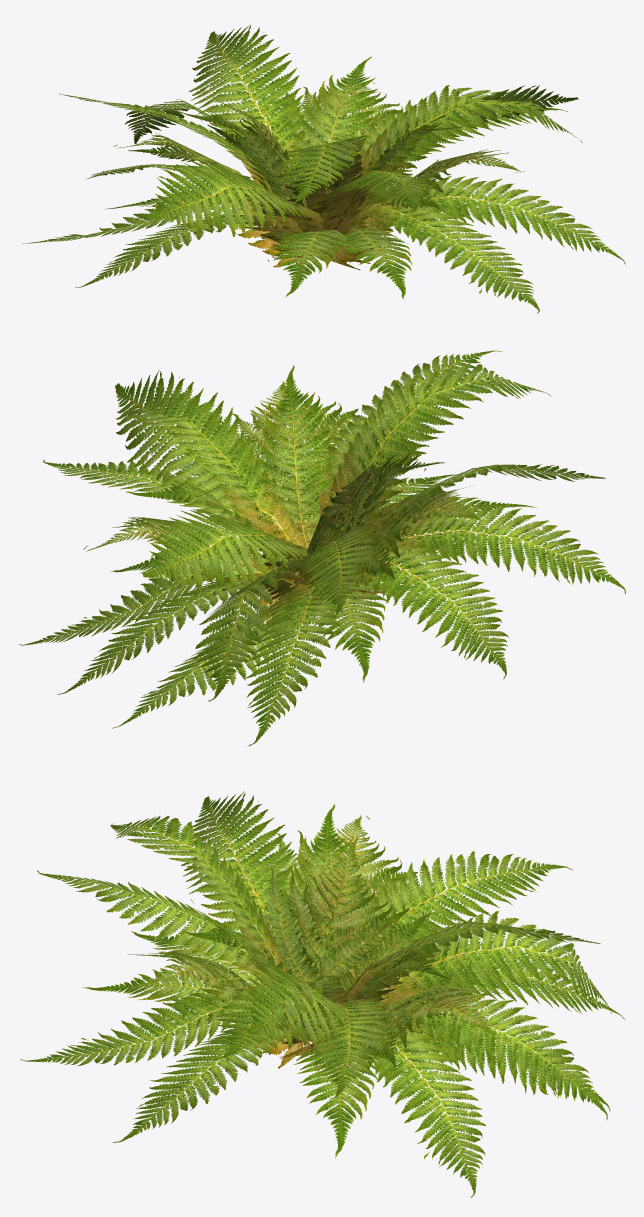
Rendered from Fern01.dae.
3 renders of one model, top to bottom at view 1: azimuth 30°, elevation 25°; view 2: azimuth 150°, elevation 25°; view 3: azimuth 270°, elevation 25°, orthographic. The views are drawn at different scales.
Visible parts, largest first — view 1: Fern01_Mesh; view 2: Fern01_Mesh; view 3: Fern01_Mesh.
Boxes of the visible parts, box(x1,y1,x2,y2) form: Fern01_Mesh: box(22, 24, 625, 313); Fern01_Mesh: box(19, 350, 625, 746); Fern01_Mesh: box(20, 791, 624, 1198).
Size of the model in its own units: 3.46 by 1.34 by 3.32.
1 material, 1 textured.
